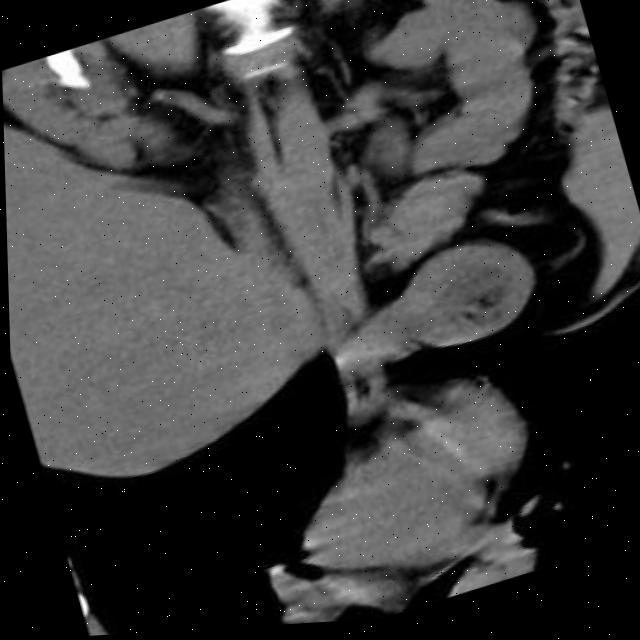Tas_Var: (41, 45, 94, 103)
